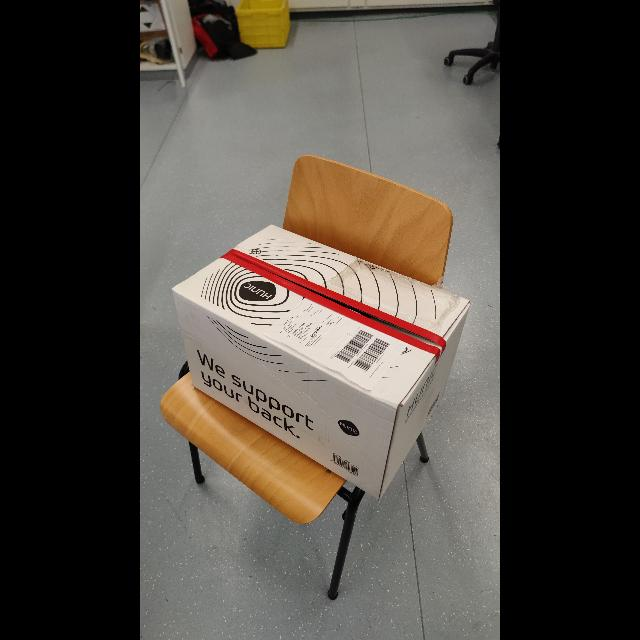cardboard_box: (168, 220, 490, 512)
